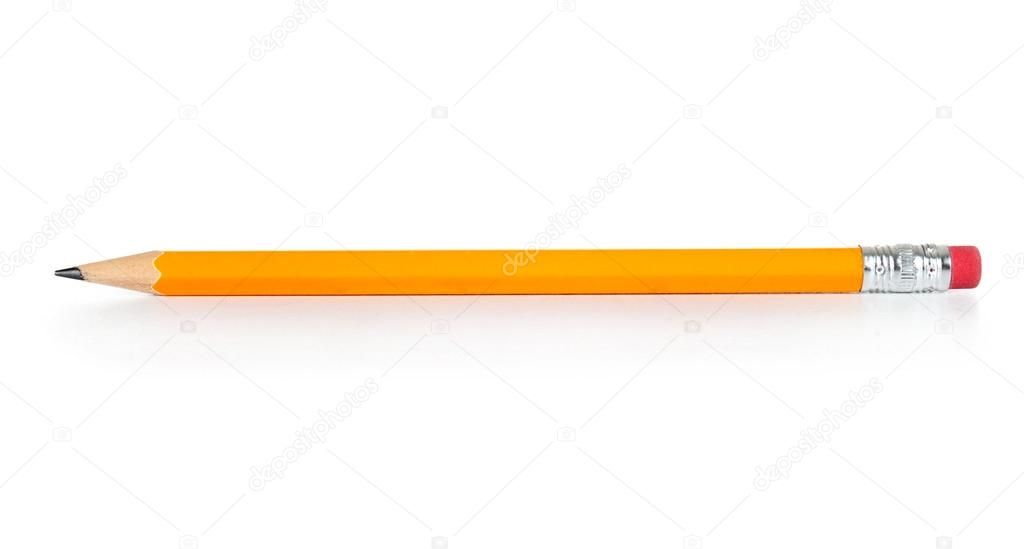pencil: (35, 207, 1002, 309)
